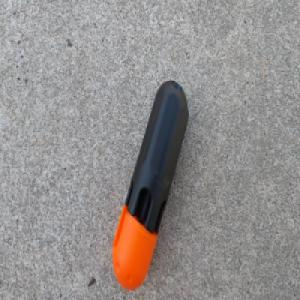PlasticPart: (110, 77, 189, 292)
